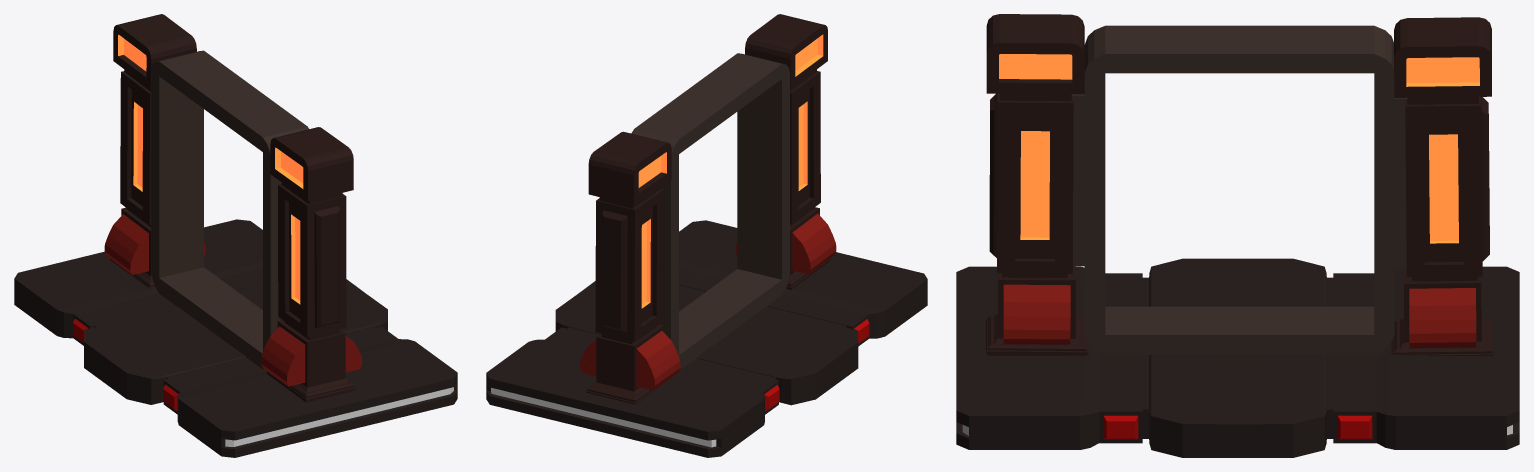
Rendered from Telport Quad.fbx.
3 views of the same model, side by side, from view 1: azimuth 30°, elevation 25°; view 2: azimuth 150°, elevation 25°; view 3: azimuth 270°, elevation 25° (orthographic). The views are drawn at different scales.
Parts seen in each view (by area): view 1: Quad Telporter; view 2: Quad Telporter; view 3: Quad Telporter.
Part boxes in pixels (left/top/right/bottom): Quad Telporter: left=14, top=14, right=457, bottom=457; Quad Telporter: left=486, top=14, right=927, bottom=457; Quad Telporter: left=956, top=14, right=1519, bottom=457.
Size of the model in its own units: 1.39 by 1.35 by 2.
